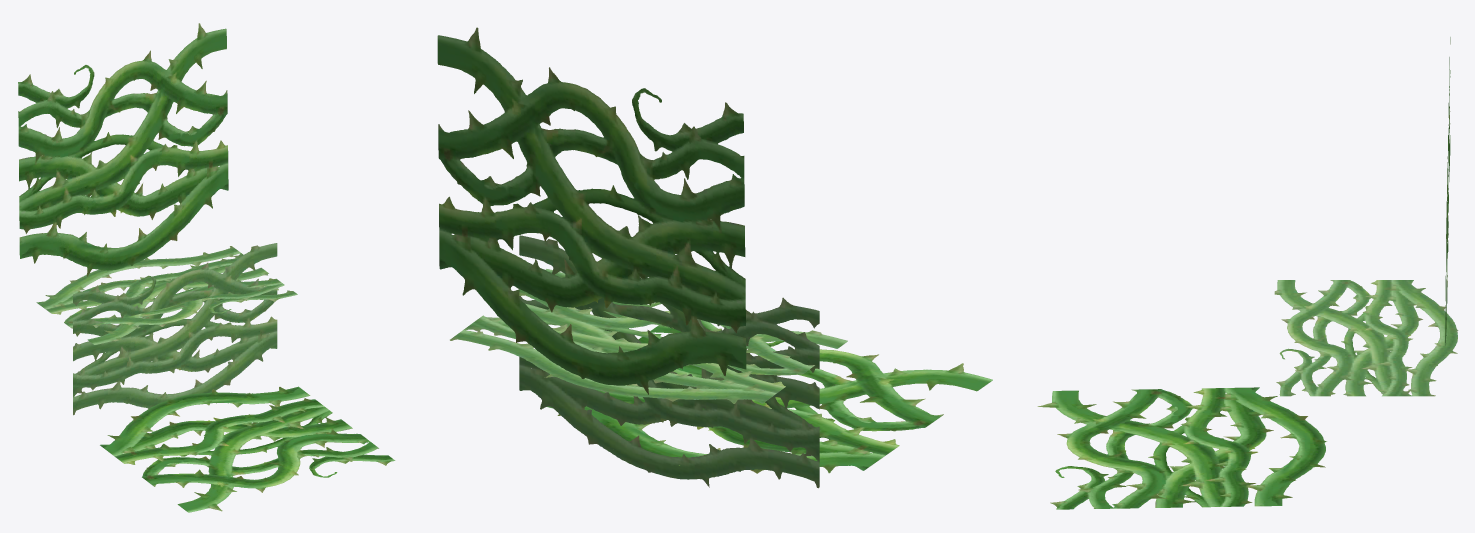
Rendered from Gimmick_break05.fbx.
The picture shows the model from 3 angles, left to right: view 1: azimuth 30°, elevation 25°; view 2: azimuth 150°, elevation 25°; view 3: azimuth 270°, elevation 25°; orthographic projection. The views are drawn at different scales.
Visible parts, largest first — view 1: gimmick_break05 (×2); view 2: gimmick_break05 (×2); view 3: gimmick_break05 (×2).
Boxes of the visible parts, <box> form: gimmick_break05 (×2): <box>18,23,395,512</box>; gimmick_break05 (×2): <box>437,27,992,488</box>; gimmick_break05 (×2): <box>1037,37,1458,509</box>.
Bounding box in the file's own units: 1.52 × 2.3 × 2.3.
